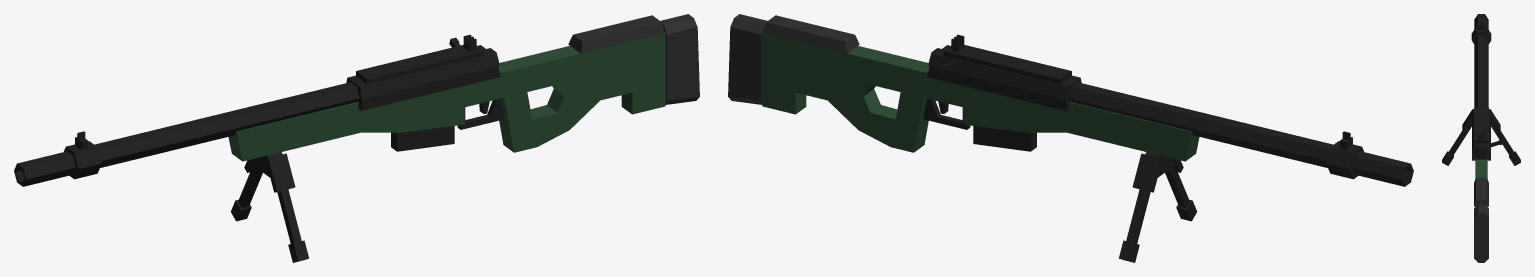
The picture shows the model from 3 angles, left to right: view 1: azimuth 30°, elevation 25°; view 2: azimuth 150°, elevation 25°; view 3: azimuth 270°, elevation 25°; orthographic projection. The views are drawn at different scales.
Visible parts, largest first — view 1: Plane, Cube, Cylinder, bipod, rail.002, Cube.002, Cube.001; view 2: Plane, Cylinder, Cube, bipod, rail.002, Cube.002, Cube.001; view 3: Cube, Cylinder, bipod, rail.002, Plane, Cube.038, Cube.040, bolt.003.
Boxes of the visible parts, x1,y1,x2,y2 form: Plane: (228, 32, 665, 161); Cube: (346, 14, 699, 110); Cylinder: (14, 48, 499, 186); bipod: (231, 152, 308, 262); rail.002: (356, 45, 484, 84); Cube.002: (391, 126, 454, 151); Cube.001: (457, 98, 504, 129); Plane: (762, 32, 1199, 161); Cylinder: (928, 48, 1413, 186); Cube: (728, 14, 1081, 110); bipod: (1119, 152, 1197, 262); rail.002: (943, 45, 1071, 84); Cube.002: (973, 126, 1036, 151); Cube.001: (923, 98, 970, 129); Cube: (1472, 107, 1490, 262); Cylinder: (1471, 14, 1491, 159); bipod: (1442, 109, 1520, 165); rail.002: (1474, 107, 1488, 143); Plane: (1475, 159, 1487, 206); Cube.038: (1477, 20, 1485, 30); Cube.040: (1477, 130, 1485, 138); bolt.003: (1490, 139, 1503, 147).
Bounding box in the file's own units: 222 × 280 × 1278.
